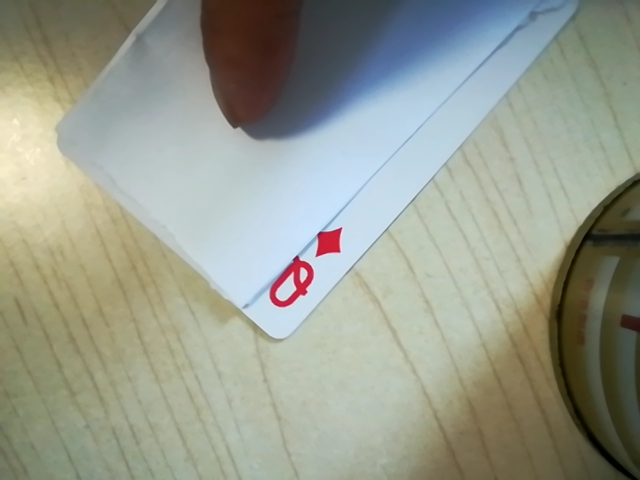fk q: (254, 220, 349, 315)
